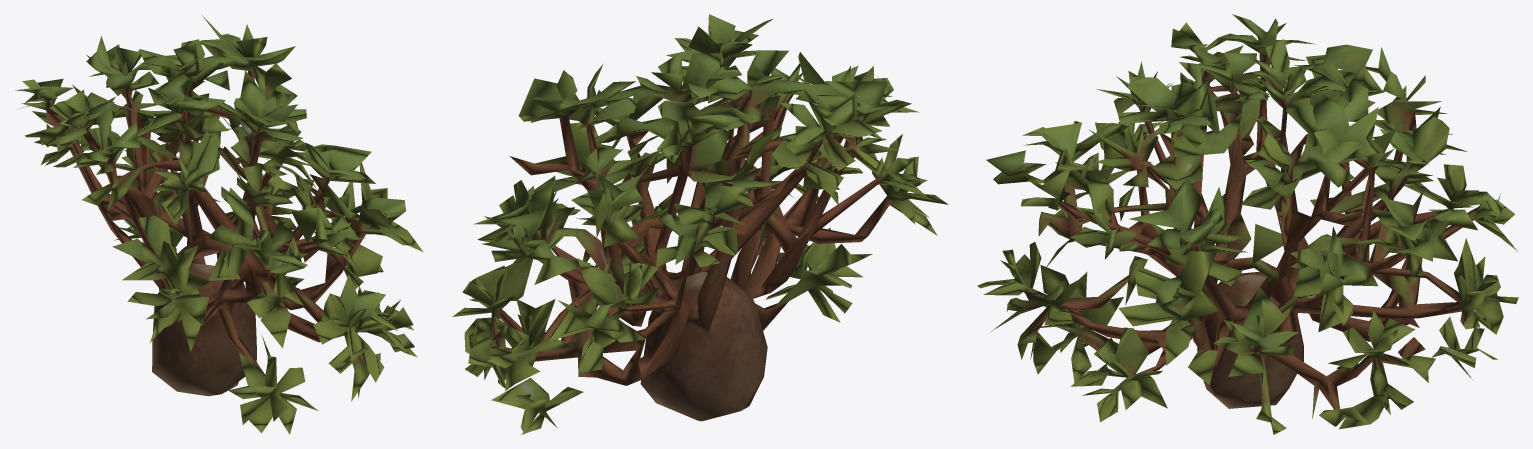
Rendered from bush.glb.
The picture shows the model from 3 angles, left to right: view 1: azimuth 30°, elevation 25°; view 2: azimuth 150°, elevation 25°; view 3: azimuth 270°, elevation 25°; orthographic projection. The views are drawn at different scales.
Visible parts, largest first — view 1: tripo_node_699f9c81-d409-4223-92ac-54ef879870ff; view 2: tripo_node_699f9c81-d409-4223-92ac-54ef879870ff; view 3: tripo_node_699f9c81-d409-4223-92ac-54ef879870ff.
Boxes of the visible parts, x1,y1,x2,y2 form: tripo_node_699f9c81-d409-4223-92ac-54ef879870ff: (15,14,423,434); tripo_node_699f9c81-d409-4223-92ac-54ef879870ff: (452,14,948,434); tripo_node_699f9c81-d409-4223-92ac-54ef879870ff: (977,14,1518,434).
Bounding box in the file's own units: 0.7639 × 0.6856 × 1.
1 material, 1 textured.
